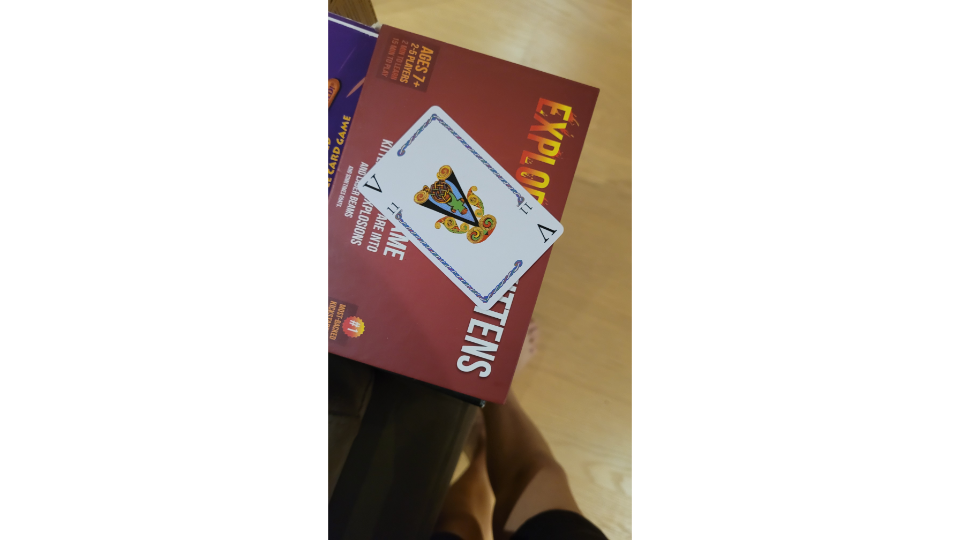V: (355, 104, 569, 313)
